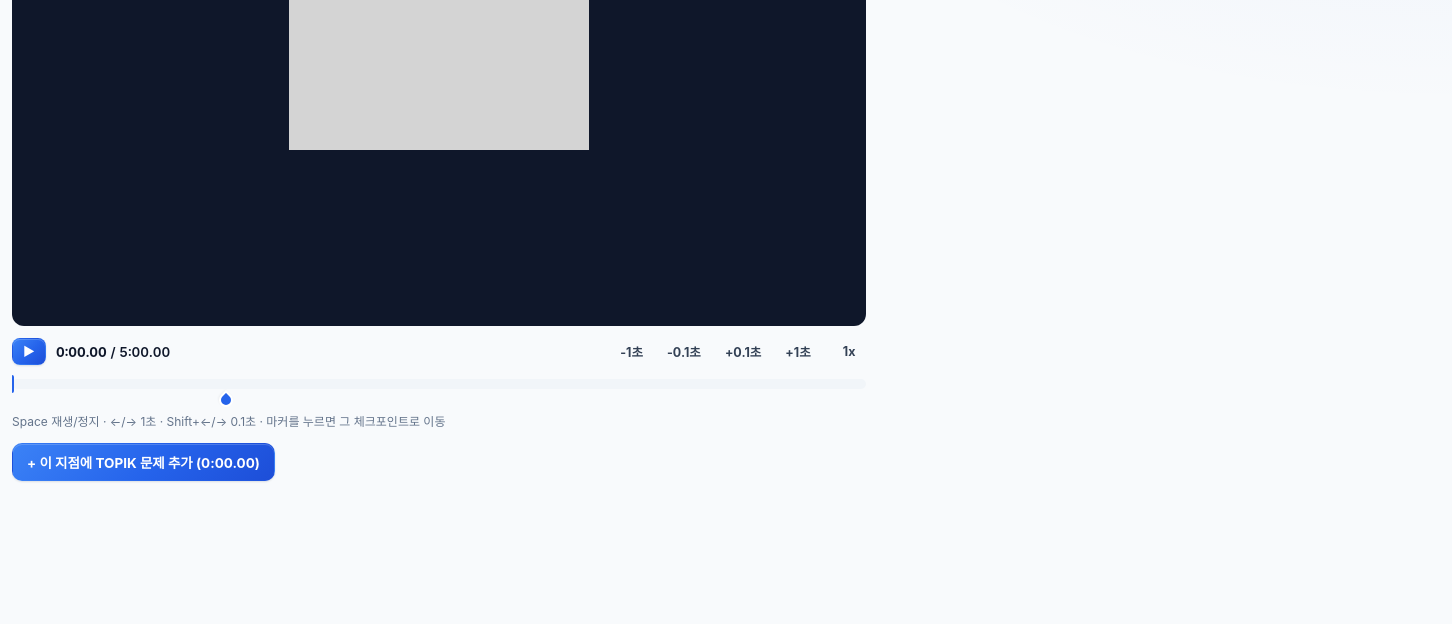
Test: CheckpointEditor › says what is missing before a question can be saved
This screenshot has width=1452, height=624.
Click the button "+ 이 지점에 TOPIK 문제 추가 (0:00.00)" at (143, 462), box [12, 444, 275, 482]
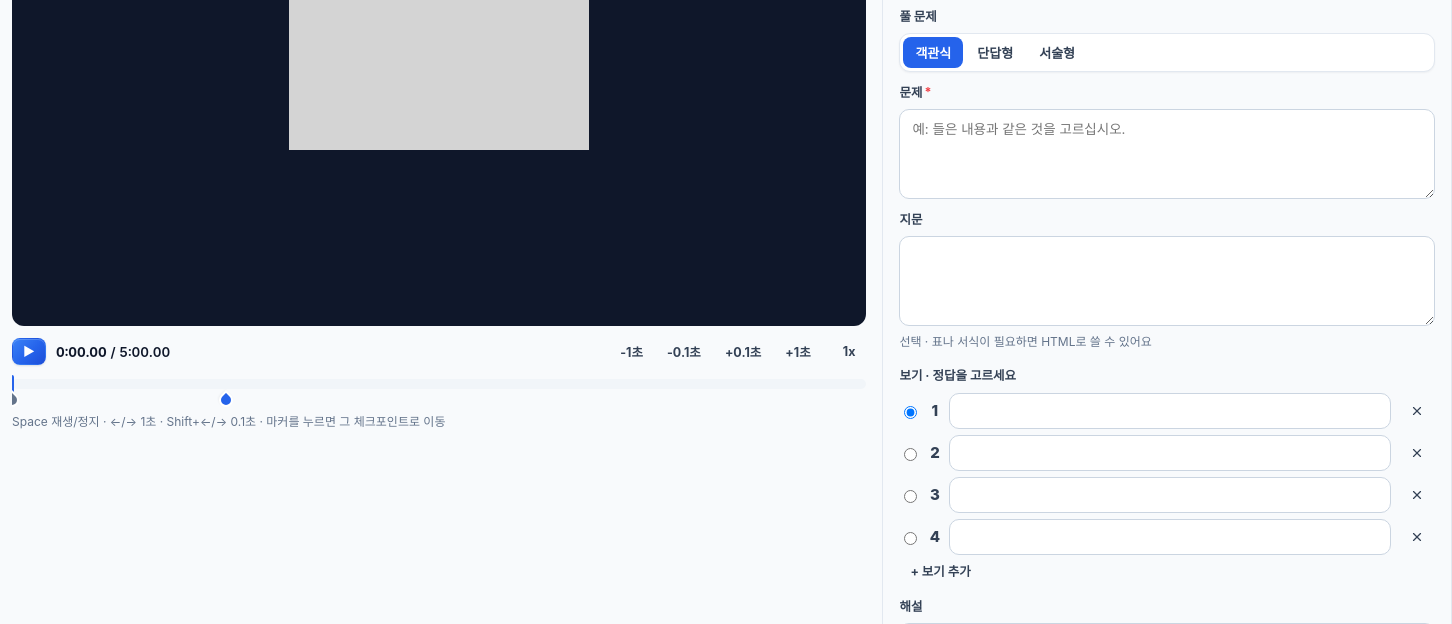
Type "고르십시오." into the text box named "문제" at (1167, 154), box [899, 109, 1435, 199]
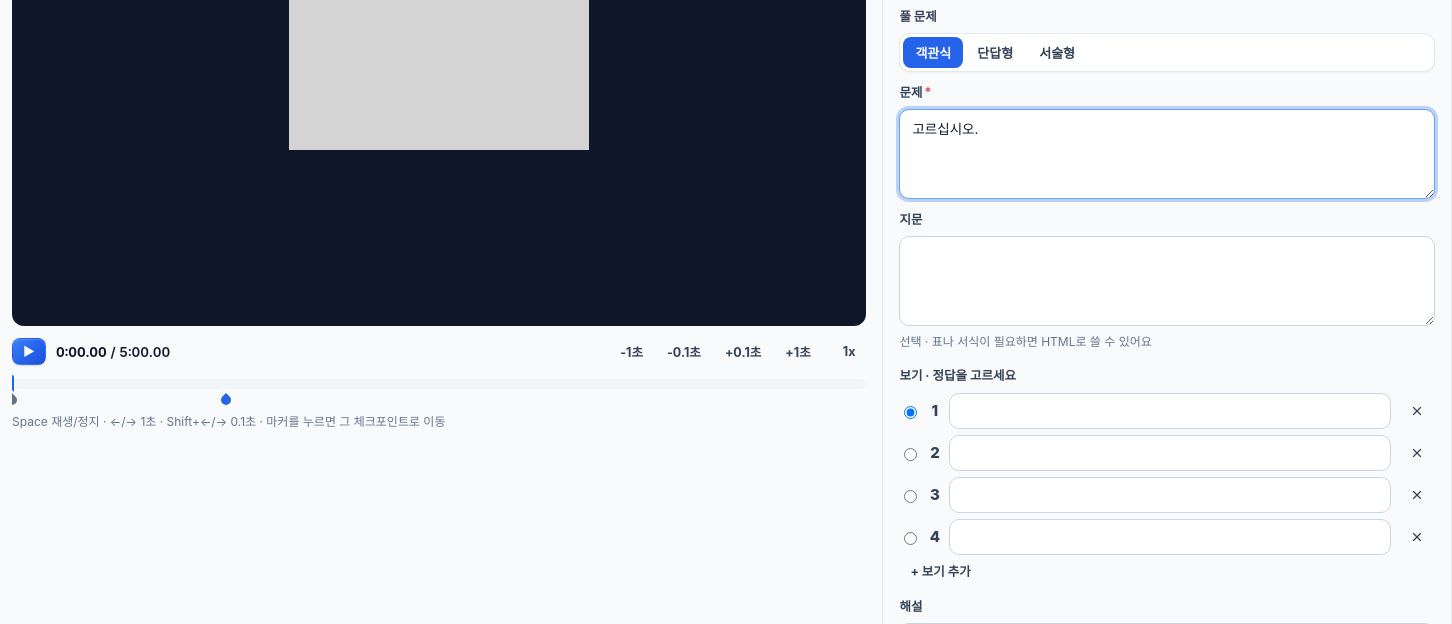
Click the radio button labelled "단답형" at (995, 52), box [965, 37, 1025, 68]
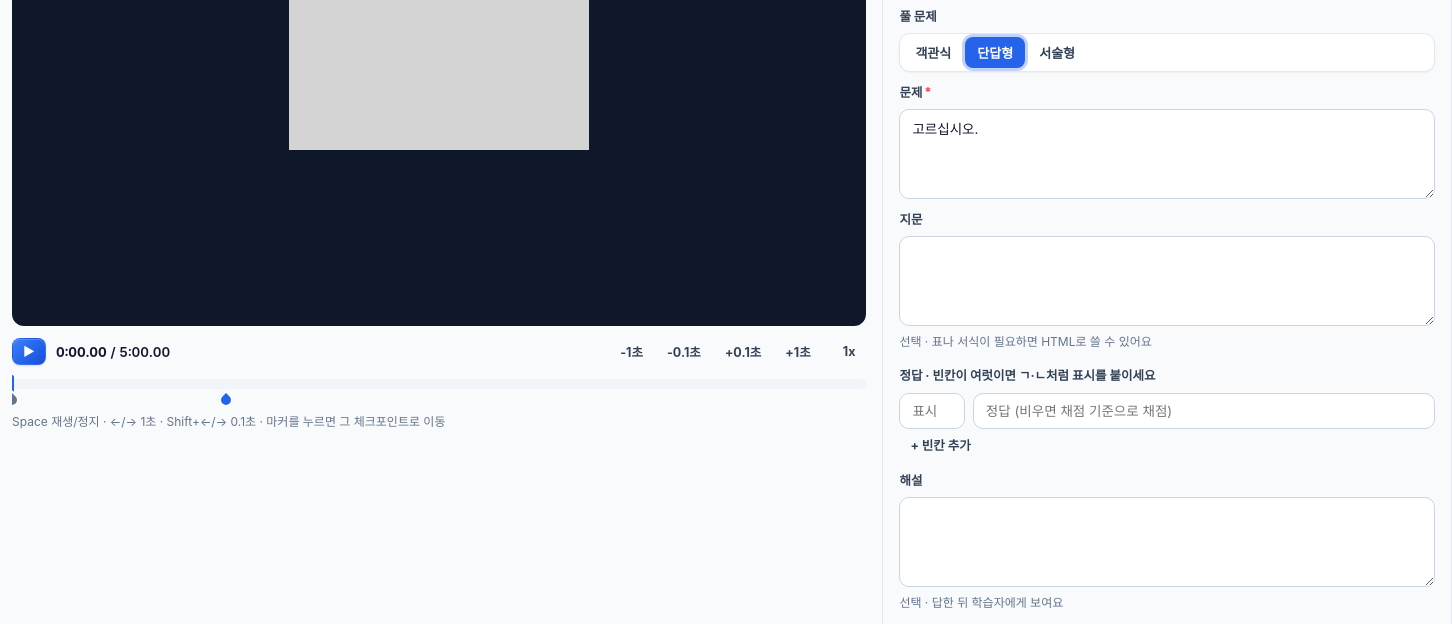
Type "학교" into the field named "빈칸 1 정답" at (1204, 411), box [973, 393, 1435, 429]
(page scrolled)
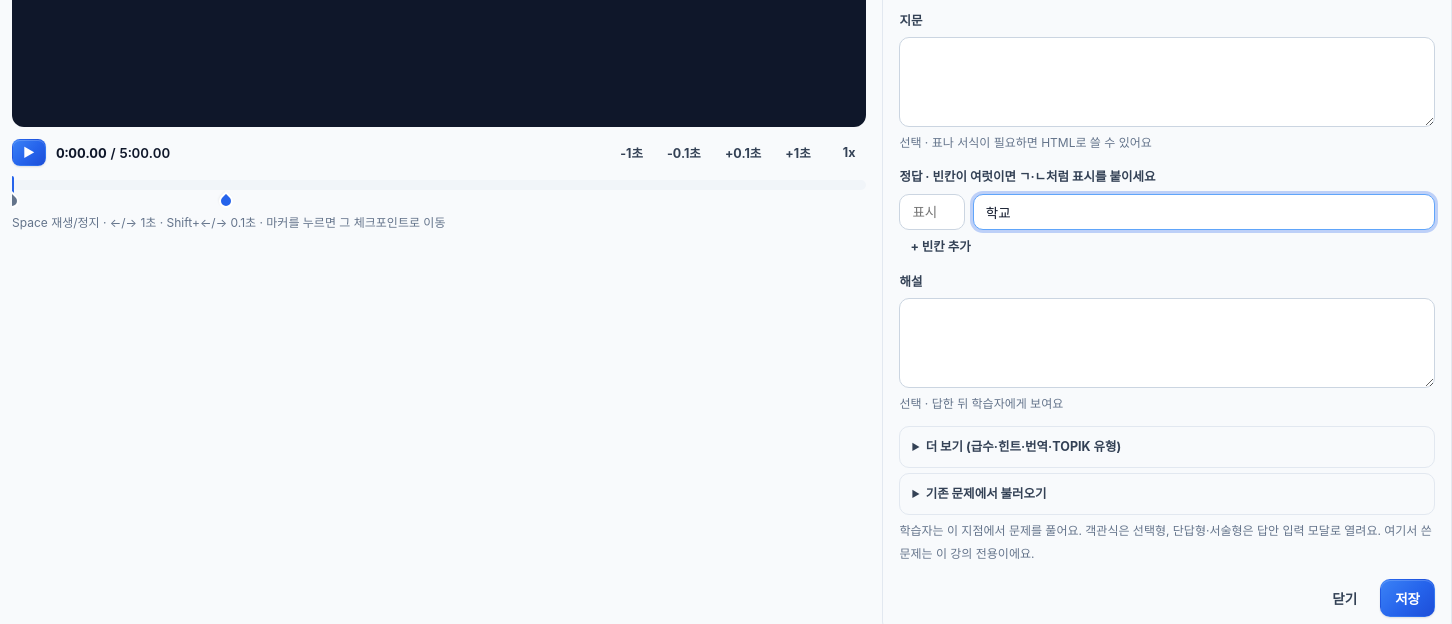
Expected: the button "저장" is enabled, [1380, 579, 1435, 617]
